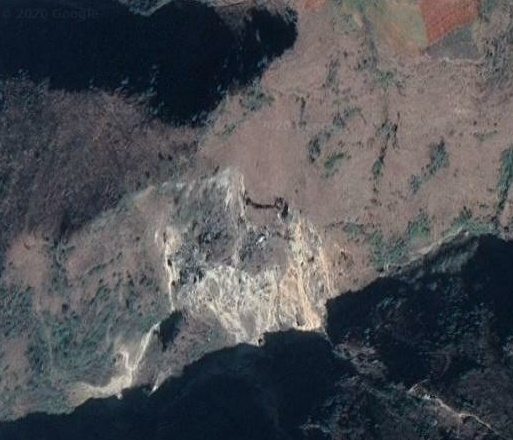slope: (153, 163, 341, 356)
